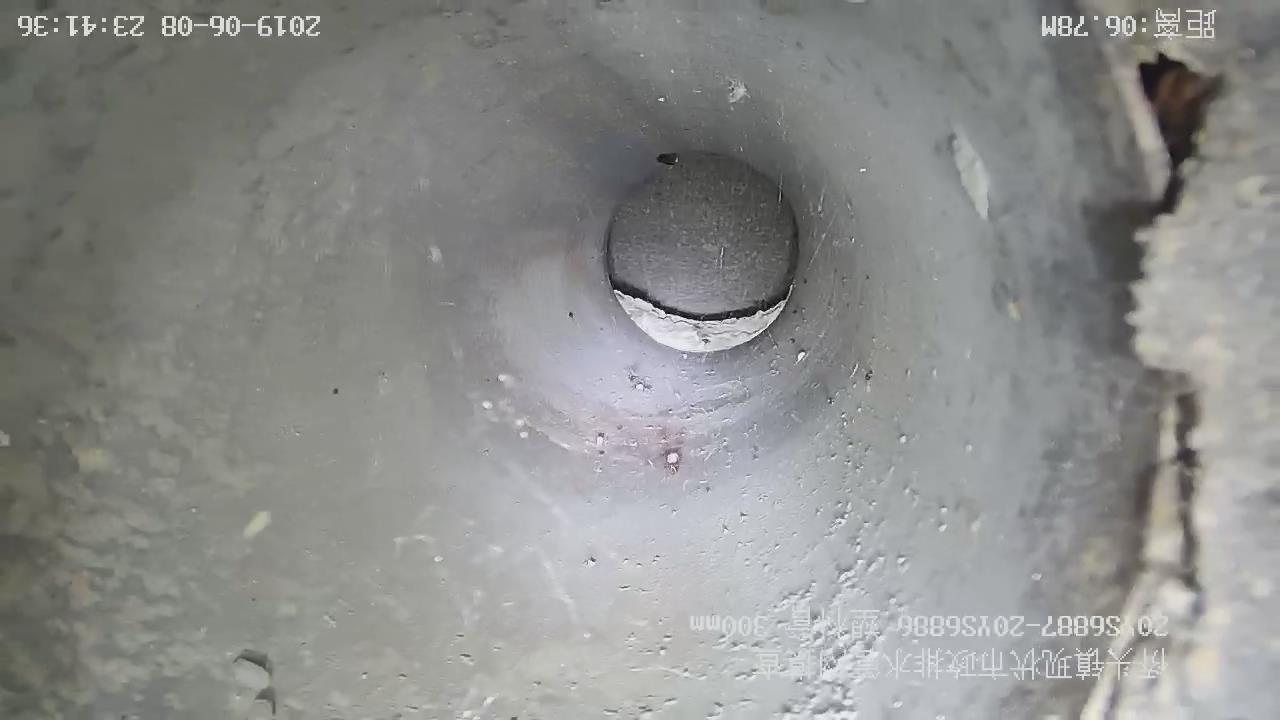CKTJ: (613, 284, 793, 352)
